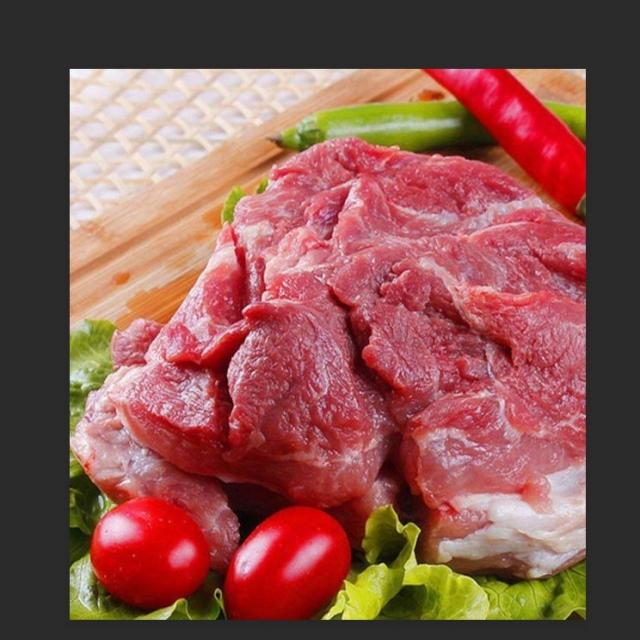pork: (118, 140, 584, 586), (67, 317, 241, 558)
